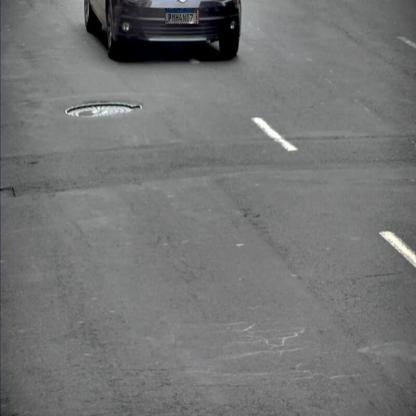PlacaM: (165, 8, 197, 24)
